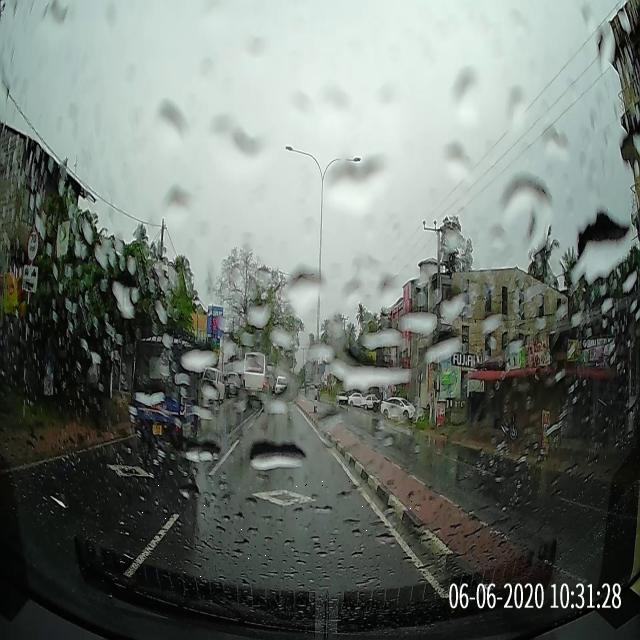diamond: (122, 476, 417, 581)
